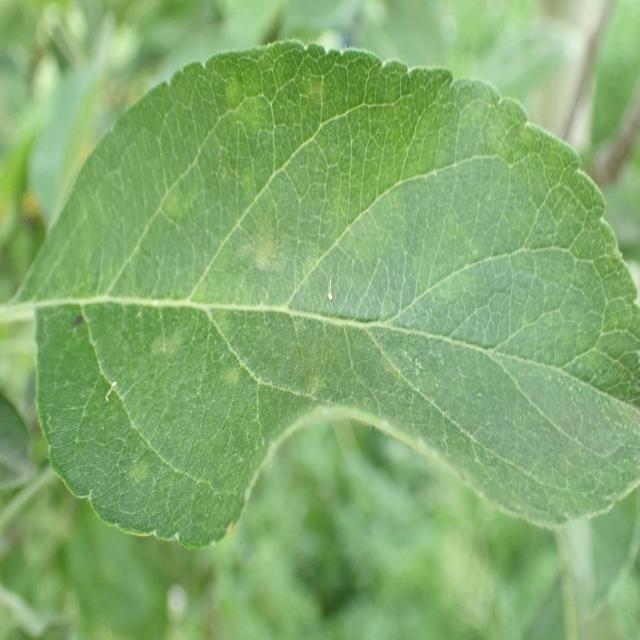scab: (47, 85, 640, 520)
